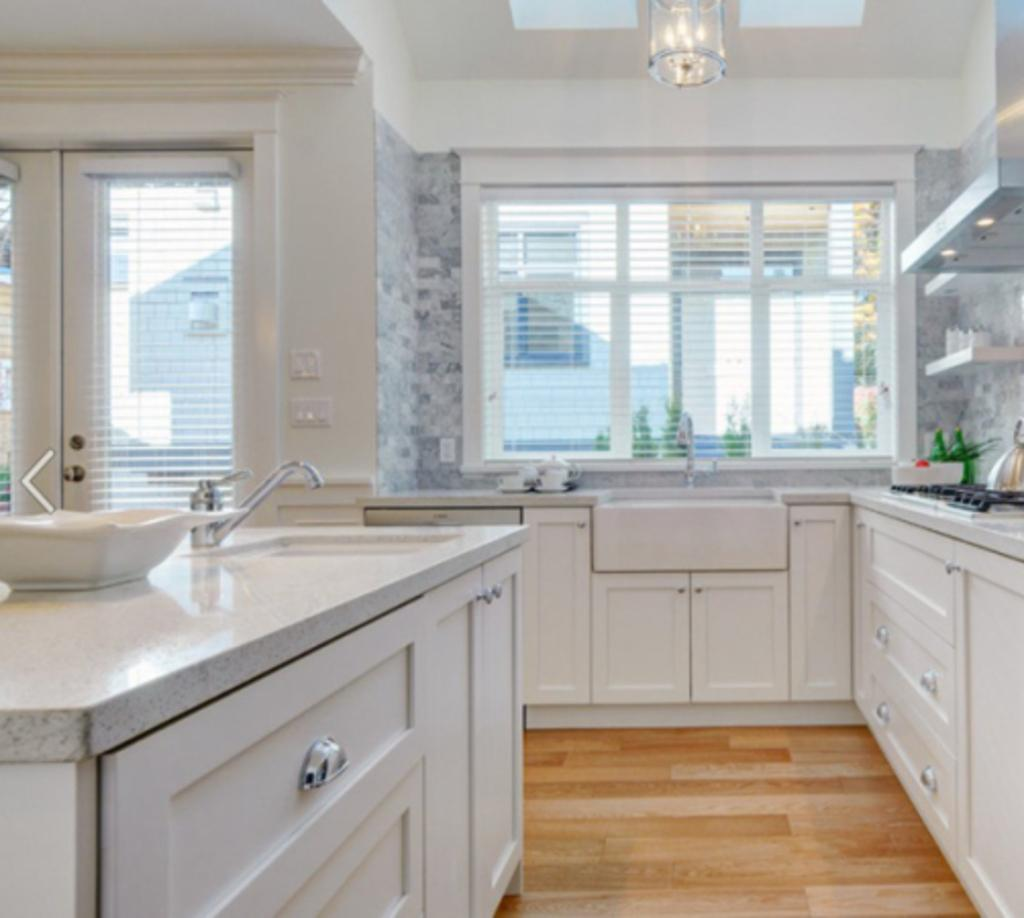cabinet_door: (154, 644, 414, 801), (246, 820, 430, 918), (430, 596, 478, 916), (790, 508, 850, 698), (486, 571, 524, 863), (528, 519, 590, 691), (696, 580, 786, 695), (865, 697, 959, 802), (596, 584, 686, 692), (868, 614, 961, 704), (866, 546, 952, 606)
handle: (294, 744, 350, 792), (918, 763, 944, 796), (875, 626, 897, 655), (918, 672, 938, 699), (872, 698, 890, 726)
